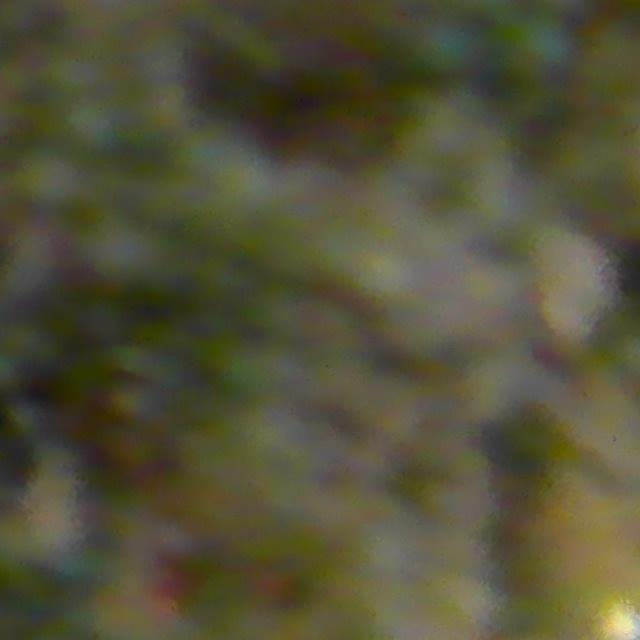SeaGrape: (16, 146, 90, 214), (508, 12, 577, 82), (413, 12, 481, 77)
